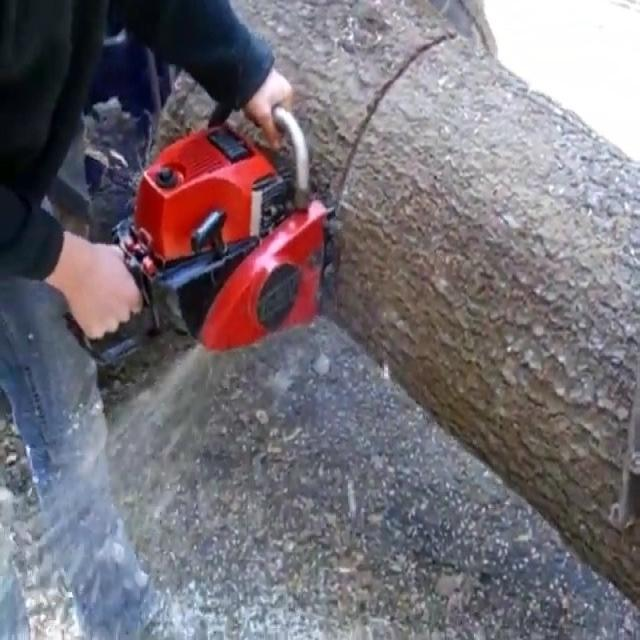Chainsaw: (57, 94, 360, 371)
